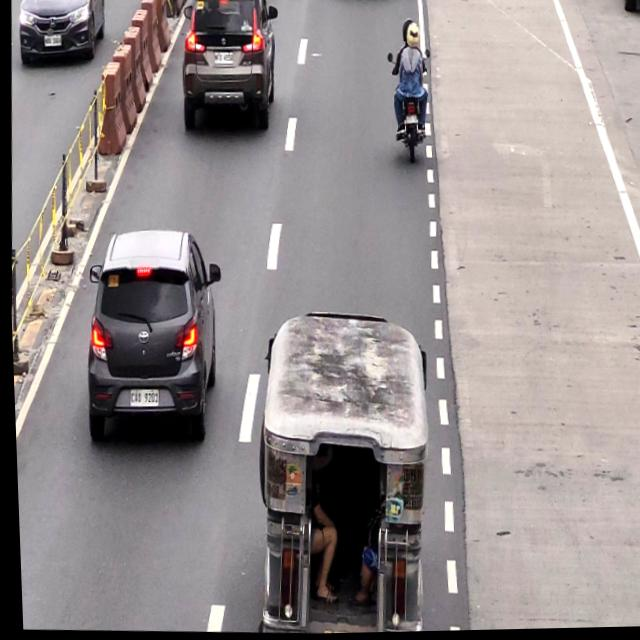Car: (81, 230, 218, 437), (176, 0, 277, 130)
Jeep: (250, 315, 426, 636)
License-Plate: (123, 387, 158, 410), (211, 48, 235, 67)
Motorcycle: (389, 21, 432, 161)
